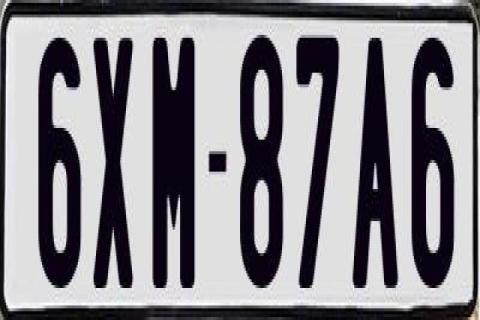0: (36, 38, 82, 306), (296, 32, 342, 294), (238, 32, 282, 296), (408, 29, 452, 285)
A: (350, 38, 398, 294)
M: (148, 38, 192, 306)
X: (92, 35, 132, 288)
